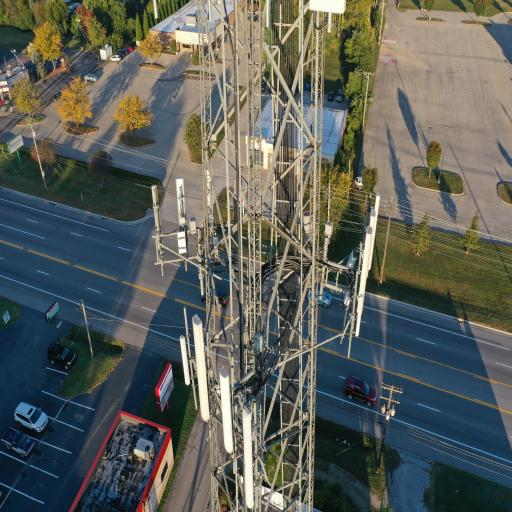supporting_tower: (152, 0, 380, 512)
